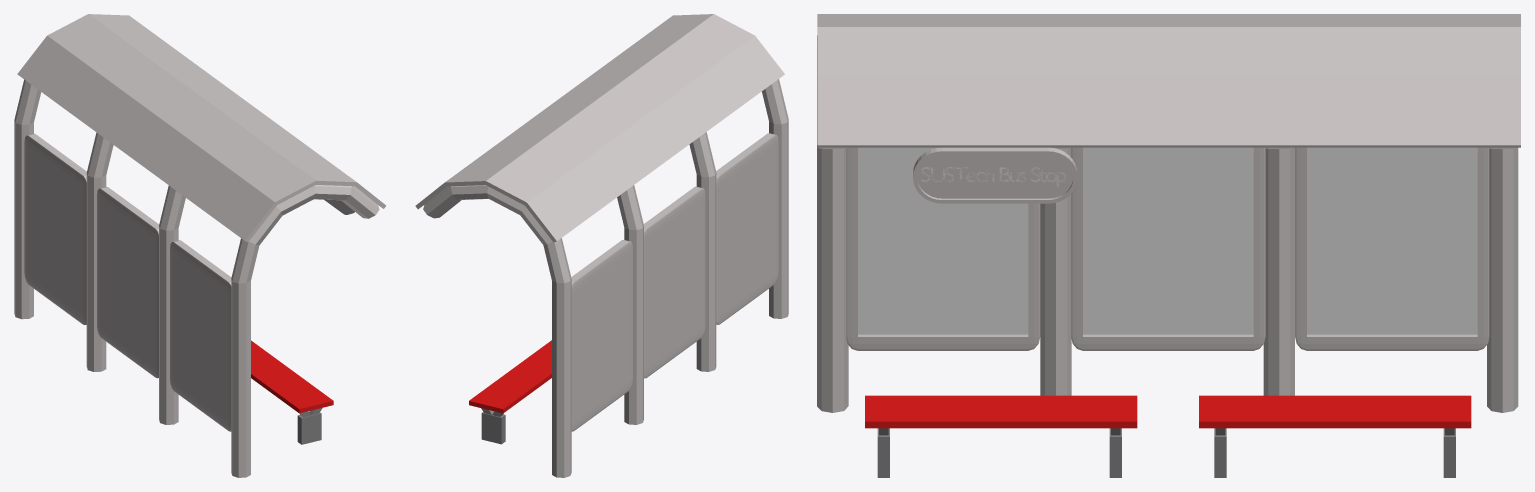
Rendered from BusStop.fbx.
The picture shows the model from 3 angles, left to right: view 1: azimuth 30°, elevation 25°; view 2: azimuth 150°, elevation 25°; view 3: azimuth 270°, elevation 25°; orthographic projection. The views are drawn at different scales.
Visible parts, largest first — view 1: Cylinder.001, Cube.004, Cube.003, Cube.002, Cube.016, Cube.001; view 2: Cylinder.001, Cube.003, Cube.004, Cube.002, Cube.020, Cube.019; view 3: Cylinder.001, Cube.004, Cube.002, Cube.003, Cube.016, Cube.020, Stop_sign.
Part boxes in pixels (left/top/right/bottom): Cylinder.001: left=14, top=14, right=386, bottom=477; Cube.004: left=24, top=133, right=86, bottom=324; Cube.003: left=170, top=240, right=231, bottom=431; Cube.002: left=97, top=186, right=159, bottom=378; Cube.016: left=251, top=340, right=333, bottom=413; Cube.001: left=297, top=408, right=322, bottom=444; Cylinder.001: left=415, top=14, right=788, bottom=477; Cube.003: left=716, top=133, right=778, bottom=324; Cube.004: left=571, top=240, right=632, bottom=431; Cube.002: left=643, top=186, right=705, bottom=378; Cube.020: left=469, top=340, right=551, bottom=413; Cube.019: left=481, top=408, right=505, bottom=444; Cylinder.001: left=817, top=14, right=1520, bottom=412; Cube.004: left=1295, top=147, right=1489, bottom=350; Cube.002: left=1071, top=147, right=1265, bottom=350; Cube.003: left=846, top=147, right=1040, bottom=350; Cube.016: left=865, top=395, right=1137, bottom=428; Cube.020: left=1199, top=395, right=1471, bottom=428; Stop_sign: left=913, top=147, right=1077, bottom=203.
Bounding box in the file's own units: 98.78 × 175 × 258.
